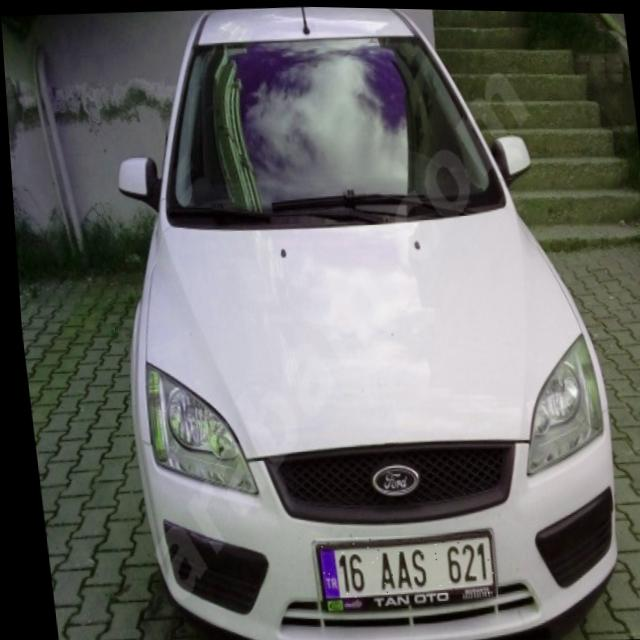license_plate: (307, 528, 490, 601)
